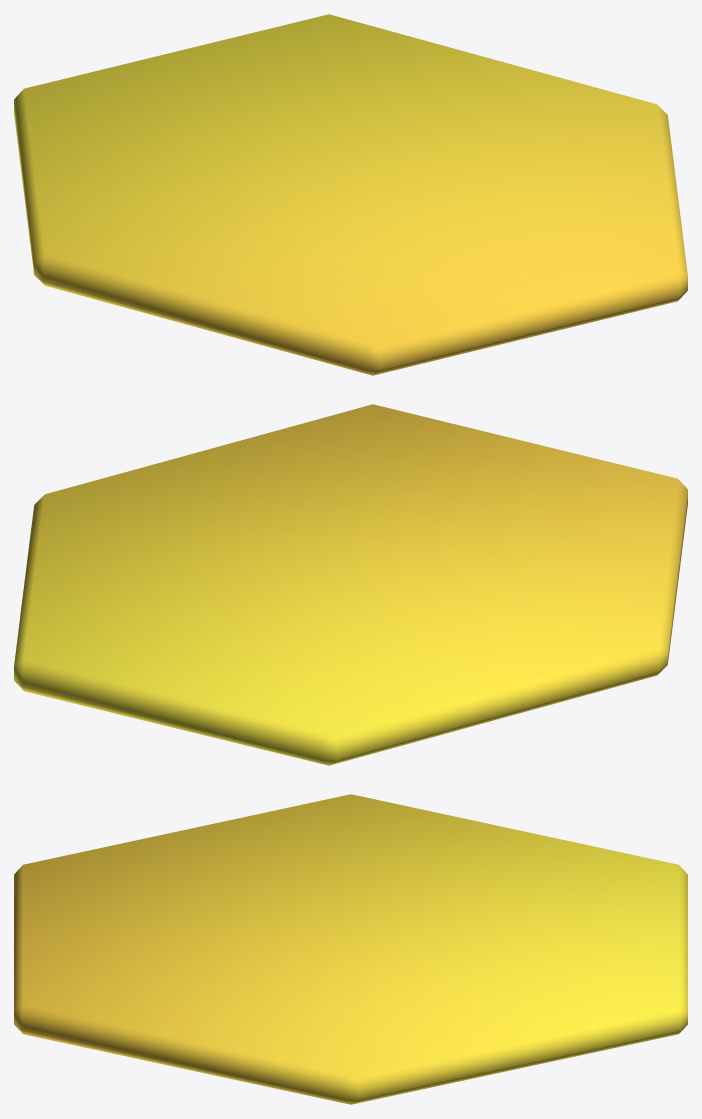
File: Hive_Stuff.fbx
3 renders of one model, top to bottom at view 1: azimuth 30°, elevation 25°; view 2: azimuth 150°, elevation 25°; view 3: azimuth 270°, elevation 25°, orthographic. The views are drawn at different scales.
Visible parts, largest first — view 1: Hive.001; view 2: Hive.001; view 3: Hive.001.
Part boxes in pixels (bbox=[...]): Hive.001: bbox=[14, 14, 687, 375]; Hive.001: bbox=[14, 404, 687, 765]; Hive.001: bbox=[14, 794, 687, 1104].
Size of the model in its own units: 2874 by 139 by 2858.
